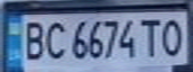4: (118, 16, 139, 60)
6: (66, 17, 90, 61), (84, 17, 106, 60)
7: (103, 17, 121, 60)
B: (18, 18, 48, 62)
C: (42, 18, 69, 61)
O: (157, 16, 190, 57)
T: (136, 16, 163, 58)
